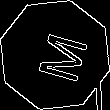M_W: (24, 26, 86, 84)
